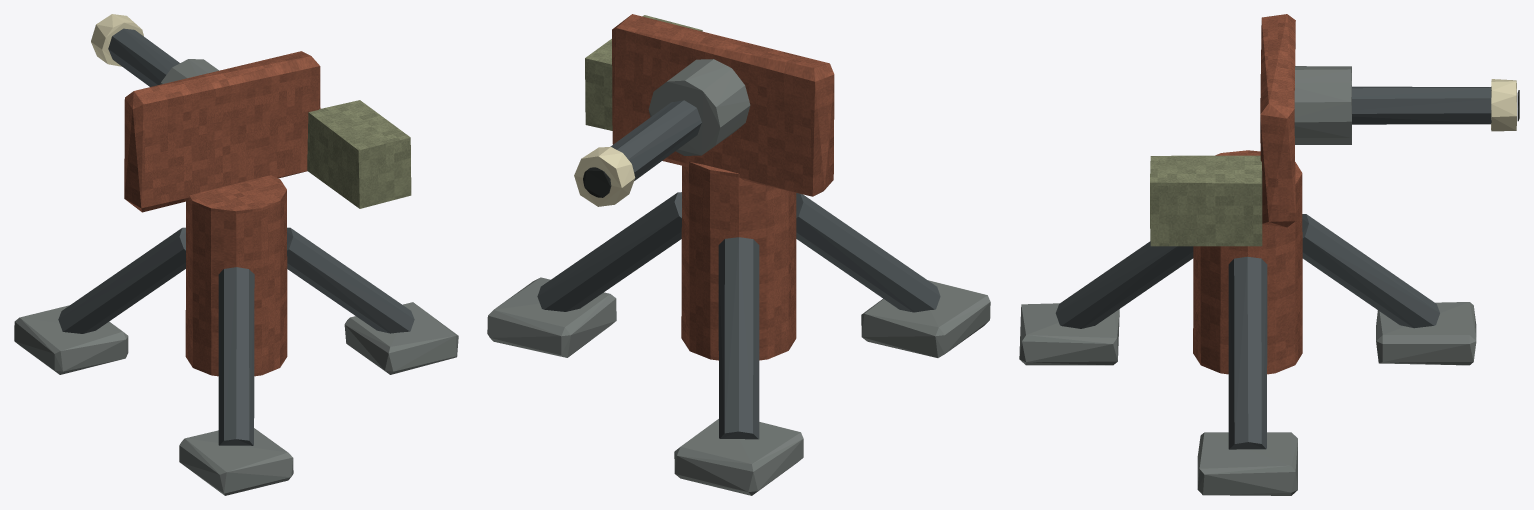
3 views of the same model, side by side, from view 1: azimuth 30°, elevation 25°; view 2: azimuth 150°, elevation 25°; view 3: azimuth 270°, elevation 25° (orthographic). The views are drawn at different scales.
Parts seen in each view (by area): view 1: ST2-E05_Mesh, TurretYaw_Mesh, BarrelRecoil_Mesh; view 2: ST2-E05_Mesh, TurretYaw_Mesh, BarrelRecoil_Mesh; view 3: ST2-E05_Mesh, TurretYaw_Mesh, BarrelRecoil_Mesh.
Boxes of the visible parts, <box> form: ST2-E05_Mesh: <box>14,175,458,495</box>; TurretYaw_Mesh: <box>124,51,411,212</box>; BarrelRecoil_Mesh: <box>91,14,218,86</box>; ST2-E05_Mesh: <box>487,162,990,495</box>; TurretYaw_Mesh: <box>585,14,834,196</box>; BarrelRecoil_Mesh: <box>574,59,750,206</box>; ST2-E05_Mesh: <box>1019,150,1476,495</box>; TurretYaw_Mesh: <box>1150,14,1295,246</box>; BarrelRecoil_Mesh: <box>1294,66,1519,144</box>.
Bounding box in the file's own units: 2.4 × 2.2 × 2.99.
